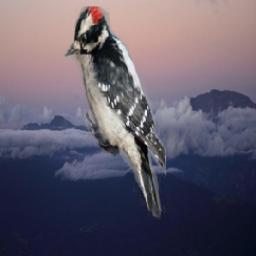Woodpecker: (62, 7, 167, 220)
